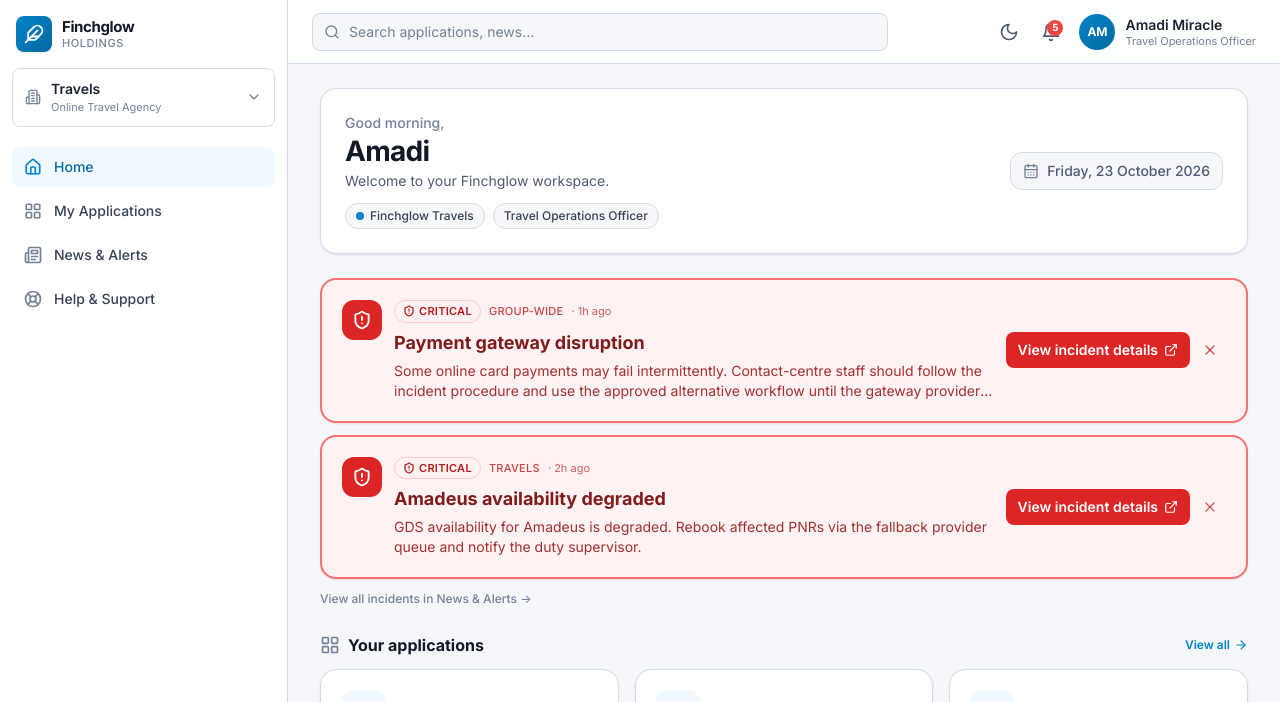
Test: App routing and navigation › navigates to the help page
Click the link "Help & Support": (90,298) [24, 290, 155, 308]
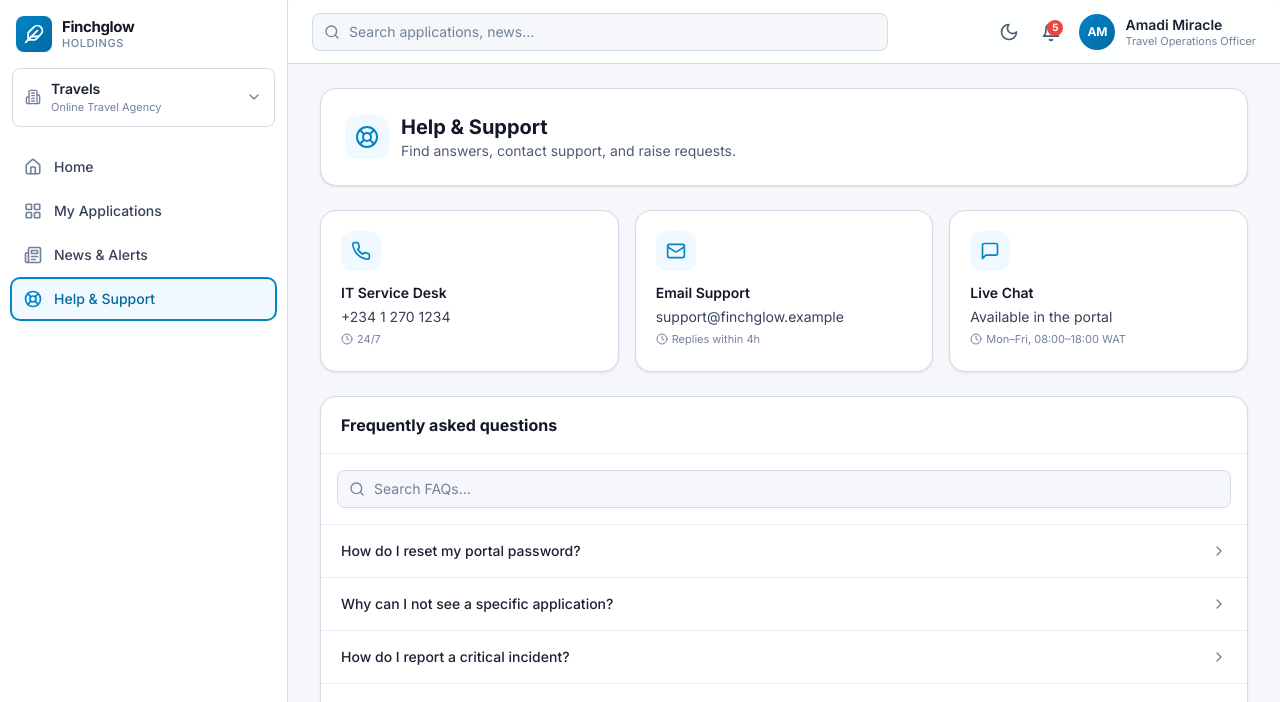
Expected: the text "Find answers, contact support, and raise requests." is shown, [401, 141, 736, 161]
